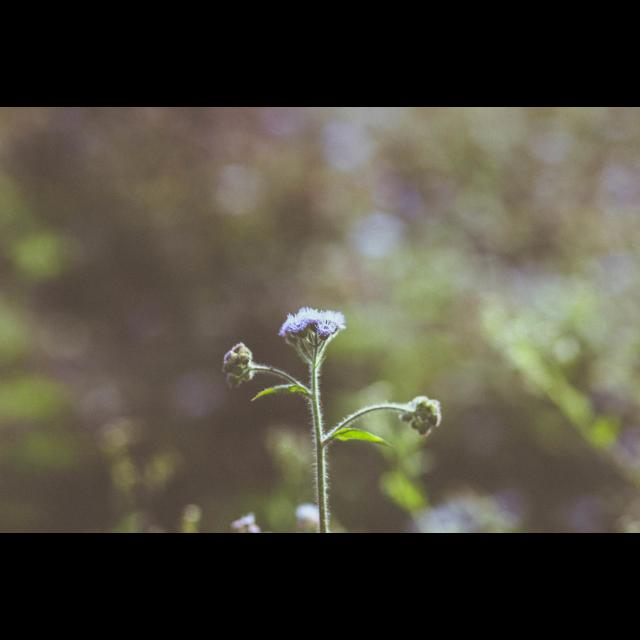Flower: (276, 306, 346, 348), (218, 340, 266, 398), (400, 397, 440, 441), (296, 502, 318, 532), (230, 516, 264, 534)
